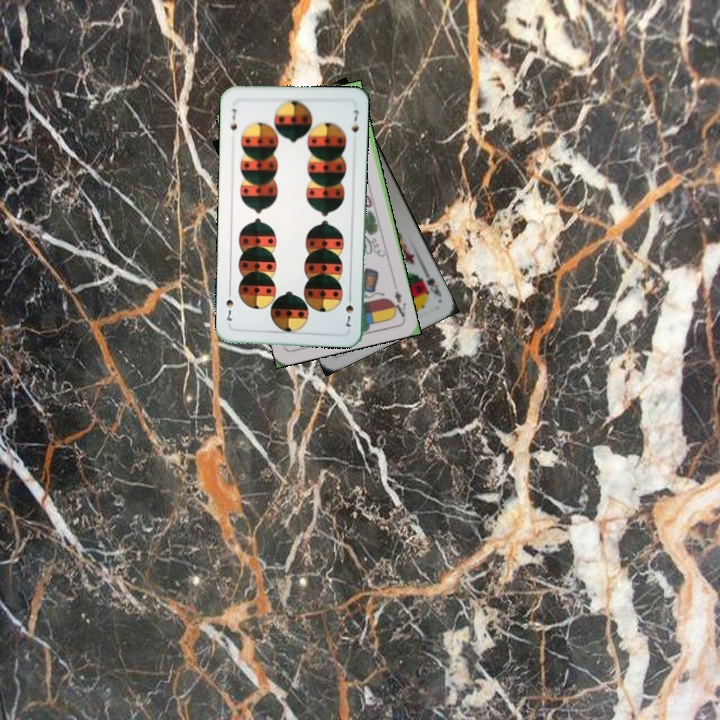EA: (388, 281, 408, 321)
S7: (341, 291, 356, 329), (227, 104, 240, 132)
SK: (416, 265, 444, 300)
